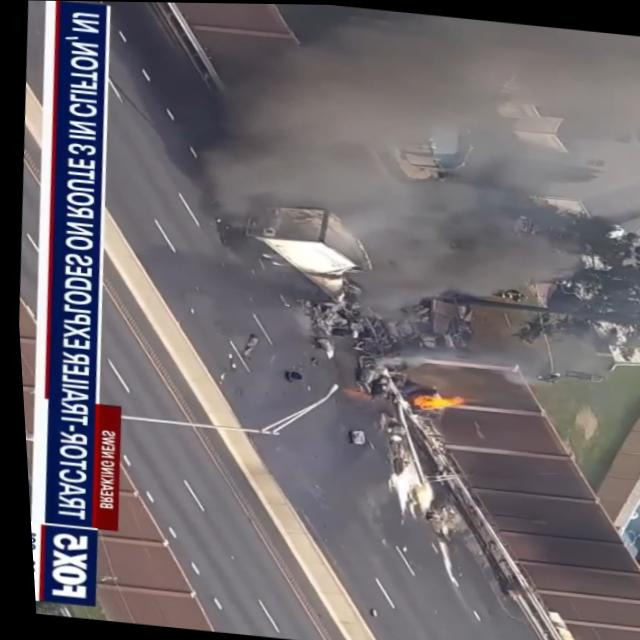Fire: (400, 386, 468, 416)
